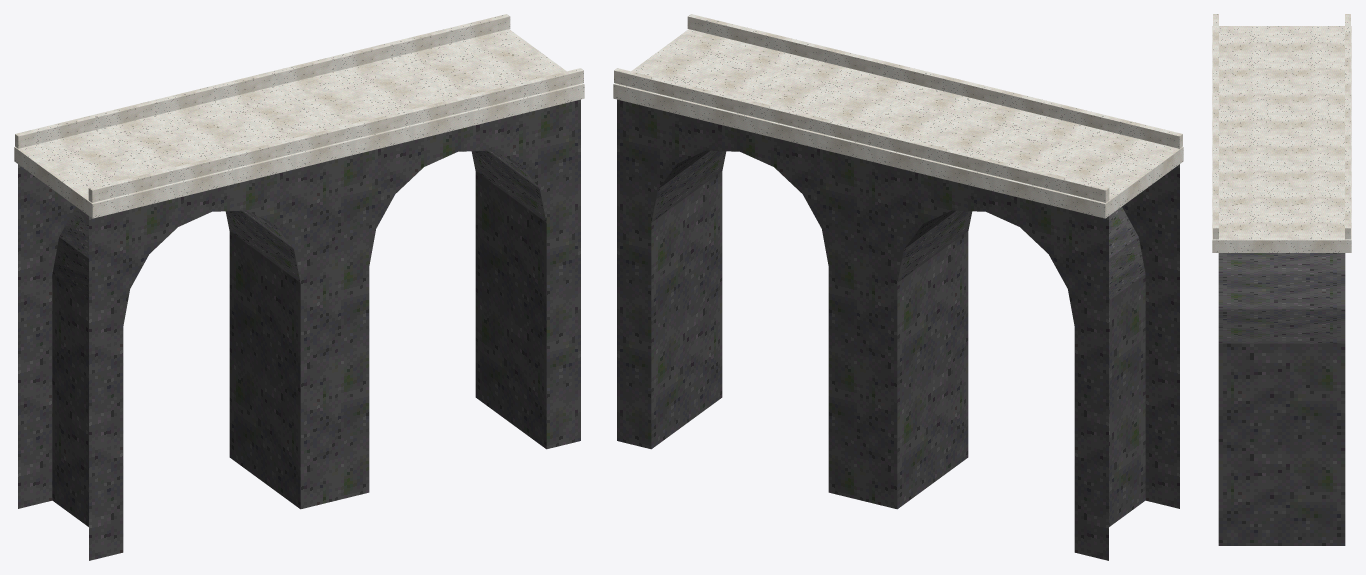
The model's file is viaducto.obj.
3 renders of one model, left to right at view 1: azimuth 30°, elevation 25°; view 2: azimuth 150°, elevation 25°; view 3: azimuth 270°, elevation 25°, orthographic. The views are drawn at different scales.
Parts seen in each view (by area): view 1: viaducto; view 2: viaducto; view 3: viaducto.
Part boxes in pixels (x1=…): viaducto: x1=14, y1=14, x2=584, y2=560; viaducto: x1=613, y1=14, x2=1183, y2=560; viaducto: x1=1212, y1=14, x2=1351, y2=545.
Bounding box in the file's own units: 20 × 14.48 × 5.5.
Materials: 2 (2 with a texture image).
